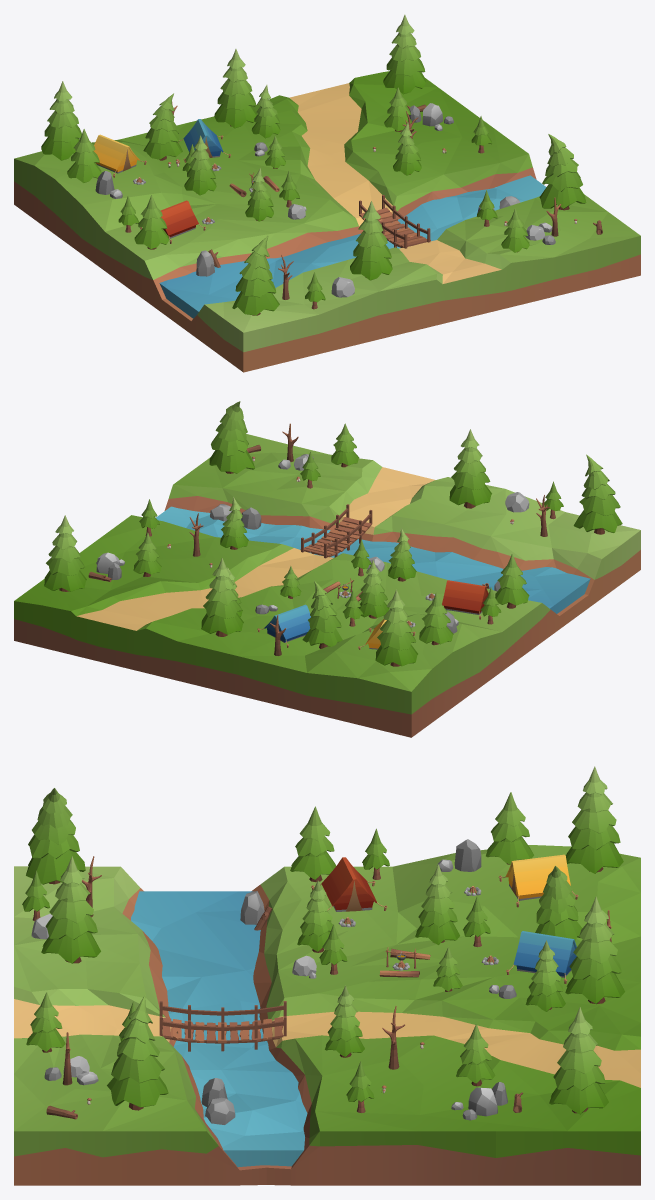
The model's file is camping forest with environment.glb.
3 renders of one model, top to bottom at view 1: azimuth 30°, elevation 25°; view 2: azimuth 150°, elevation 25°; view 3: azimuth 270°, elevation 25°, orthographic. The views are drawn at different scales.
Parts seen in each view (by area): view 1: land camping forest, water location camping forest, fir tree tilted (1), fir tree tilted, fir tree large (1), fir tree large (4), fir tree large (2), fir tree large, fir tree tilted (2), wooden bridge, camping tent yellow, fir tree large (3) (+9 smaller); view 2: land camping forest, water location camping forest, fir tree tilted, fir tree tilted (1), fir tree large (4), fir tree large (1), fir tree large, fir tree large (2), wooden bridge, fir tree tilted (2), camping tent red, camping tent blue (+7 smaller); view 3: land camping forest, water location camping forest, fir tree tilted (1), fir tree large (1), fir tree large (4), fir tree large (2), fir tree large, wooden bridge, fir tree tilted, fir tree tilted (2), fir tree large (3), camping tent red (+19 smaller).
Boxes of the visible parts, x1,y1,x2,y2 form: land camping forest: [14, 71, 640, 372]; water location camping forest: [159, 175, 546, 318]; fir tree tilted (1): [539, 134, 586, 210]; fir tree tilted: [232, 235, 279, 315]; fir tree large (1): [214, 49, 256, 128]; fir tree large (4): [350, 201, 392, 280]; fir tree large (2): [383, 14, 425, 94]; fir tree large: [41, 81, 81, 160]; fir tree tilted (2): [143, 93, 182, 160]; wooden bridge: [359, 195, 430, 248]; camping tent yellow: [93, 134, 146, 177]; fir tree large (3): [184, 135, 216, 195]; land camping forest: [14, 434, 640, 737]; water location camping forest: [156, 506, 590, 613]; fir tree tilted: [573, 454, 622, 534]; fir tree tilted (1): [209, 401, 254, 473]; fir tree large (4): [449, 429, 491, 508]; fir tree large (1): [201, 558, 243, 636]; fir tree large: [375, 589, 417, 666]; fir tree large (2): [44, 515, 86, 591]; wooden bridge: [300, 504, 372, 558]; fir tree tilted (2): [302, 580, 342, 648]; camping tent red: [442, 580, 488, 619]; camping tent blue: [257, 604, 310, 647]; land camping forest: [14, 845, 640, 1185]; water location camping forest: [131, 891, 307, 1166]; fir tree tilted (1): [107, 995, 168, 1110]; fir tree large (1): [565, 896, 624, 1004]; fir tree large (4): [41, 856, 100, 963]; fir tree large (2): [549, 1007, 608, 1114]; fir tree large: [566, 766, 623, 873]; wooden bridge: [159, 1001, 286, 1051]; fir tree tilted: [26, 788, 85, 884]; fir tree tilted (2): [535, 865, 582, 941]; fir tree large (3): [415, 864, 459, 944]; camping tent red: [311, 857, 387, 911].
Bounding box in the file's own units: 135 × 41.61 × 135.
1 material, 1 textured.
